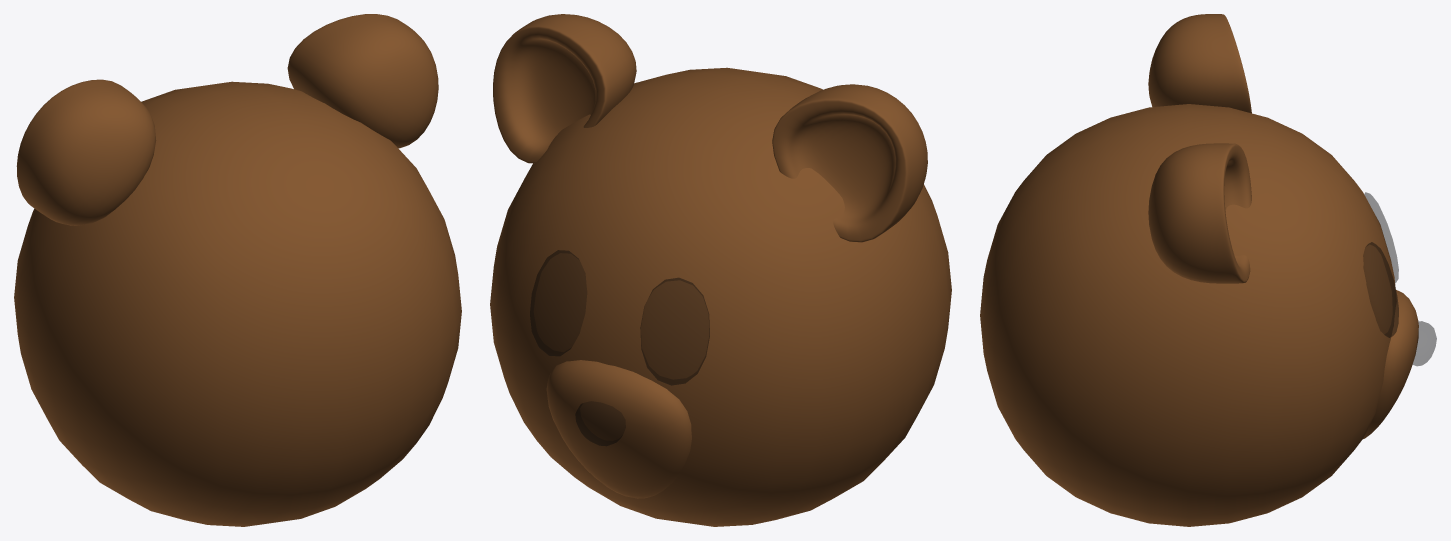
File: testabearfbx 1.fbx
3 views of the same model, side by side, from view 1: azimuth 30°, elevation 25°; view 2: azimuth 150°, elevation 25°; view 3: azimuth 270°, elevation 25° (orthographic). The views are drawn at different scales.
Parts seen in each view (by area): view 1: Cube, Cube.003; view 2: Cube, Cube.003, Cube.001, Cube.004, Cube.002; view 3: Cube, Cube.003, Cube.001, Cube.004, Cube.002.
Part boxes in pixels (x1,y1,x2,y2): Cube: (14, 81, 461, 526); Cube.003: (16, 14, 438, 225); Cube: (490, 67, 951, 526); Cube.003: (493, 14, 927, 242); Cube.001: (546, 360, 691, 498); Cube.004: (530, 250, 709, 385); Cube.002: (575, 401, 625, 445); Cube: (980, 104, 1396, 526); Cube.003: (1148, 14, 1251, 283); Cube.001: (1363, 290, 1418, 438); Cube.004: (1363, 192, 1398, 337); Cube.002: (1413, 321, 1436, 365).
Size of the model in its own units: 177 by 185 by 183.
